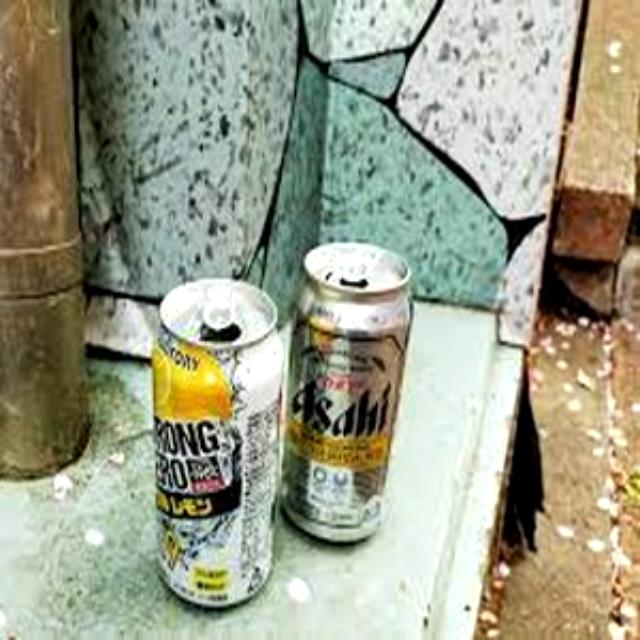Metal: (156, 278, 286, 616), (282, 233, 416, 547)
